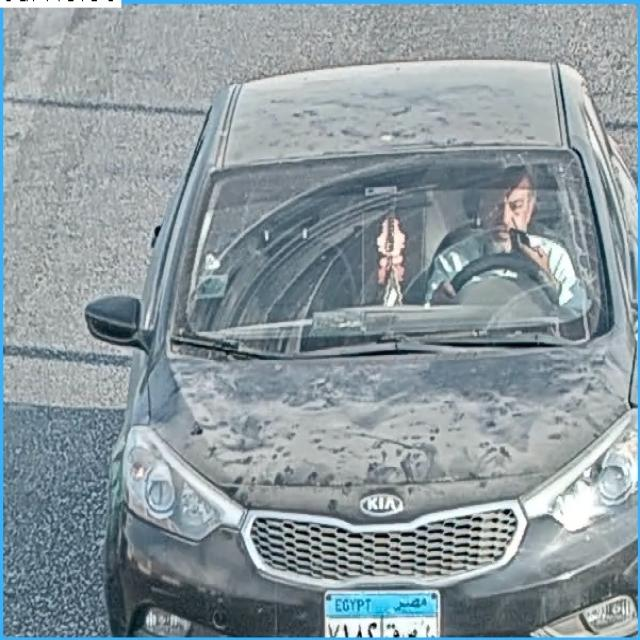windshield: (172, 162, 609, 327)
